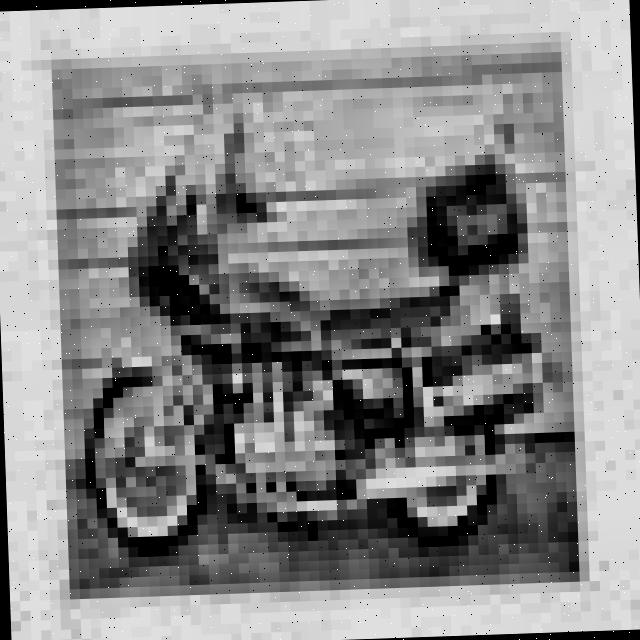mopeds: (71, 127, 558, 561)
